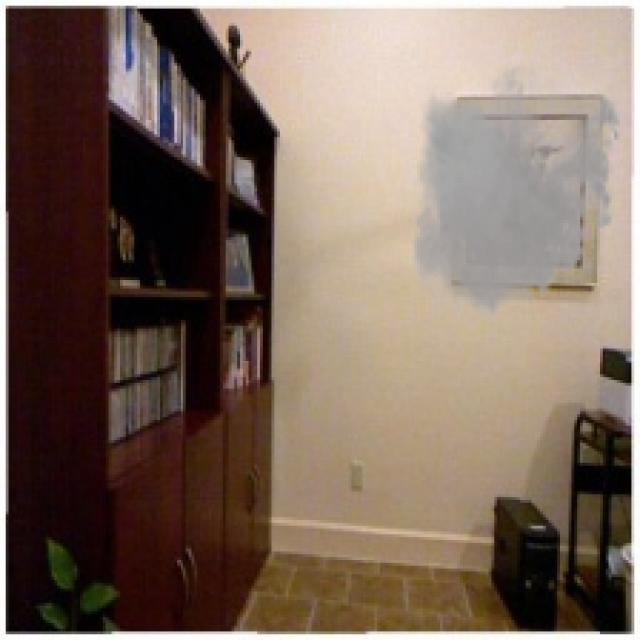smoke: (403, 48, 628, 332)
